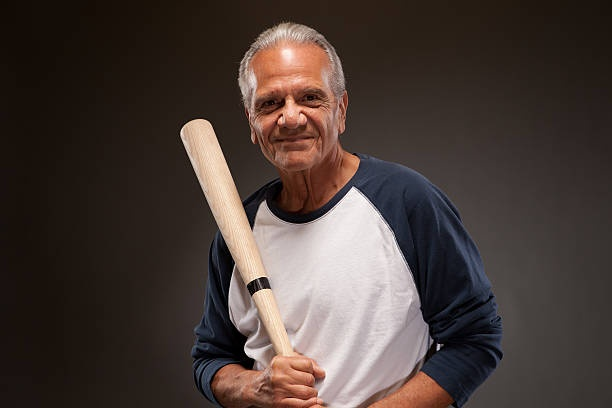bita: (178, 118, 294, 363)
